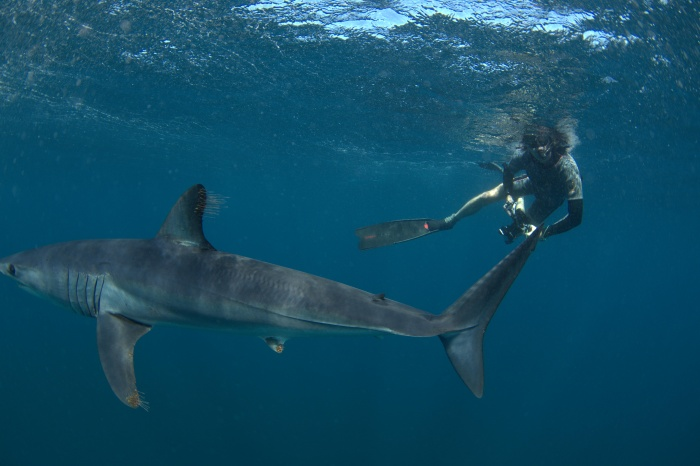Mako: (1, 173, 546, 421)
